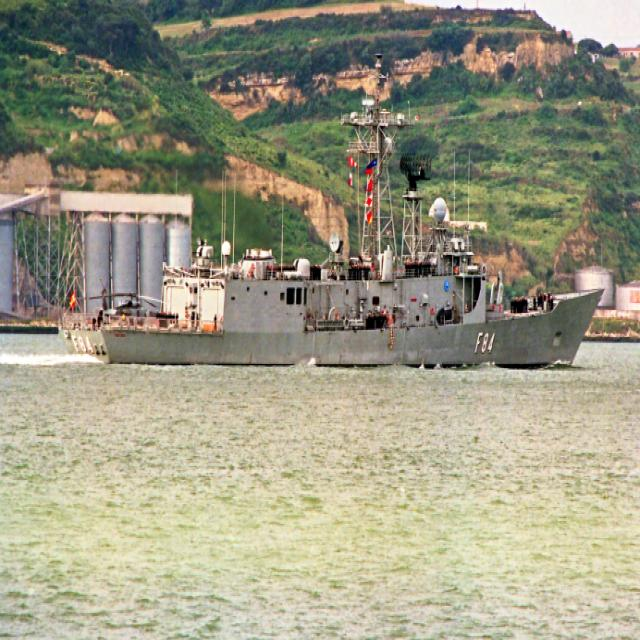Fragata: (59, 45, 606, 375)
